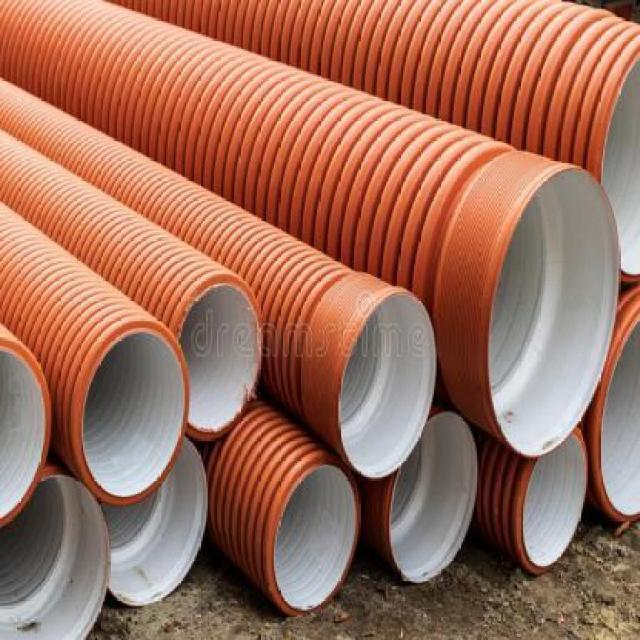pipe: (489, 167, 620, 456), (74, 321, 190, 502), (337, 290, 435, 478), (98, 440, 209, 605), (0, 475, 112, 638), (386, 412, 479, 586), (171, 278, 262, 440), (271, 462, 359, 613), (595, 49, 640, 283), (592, 314, 640, 525), (0, 340, 51, 526), (520, 431, 586, 573)
